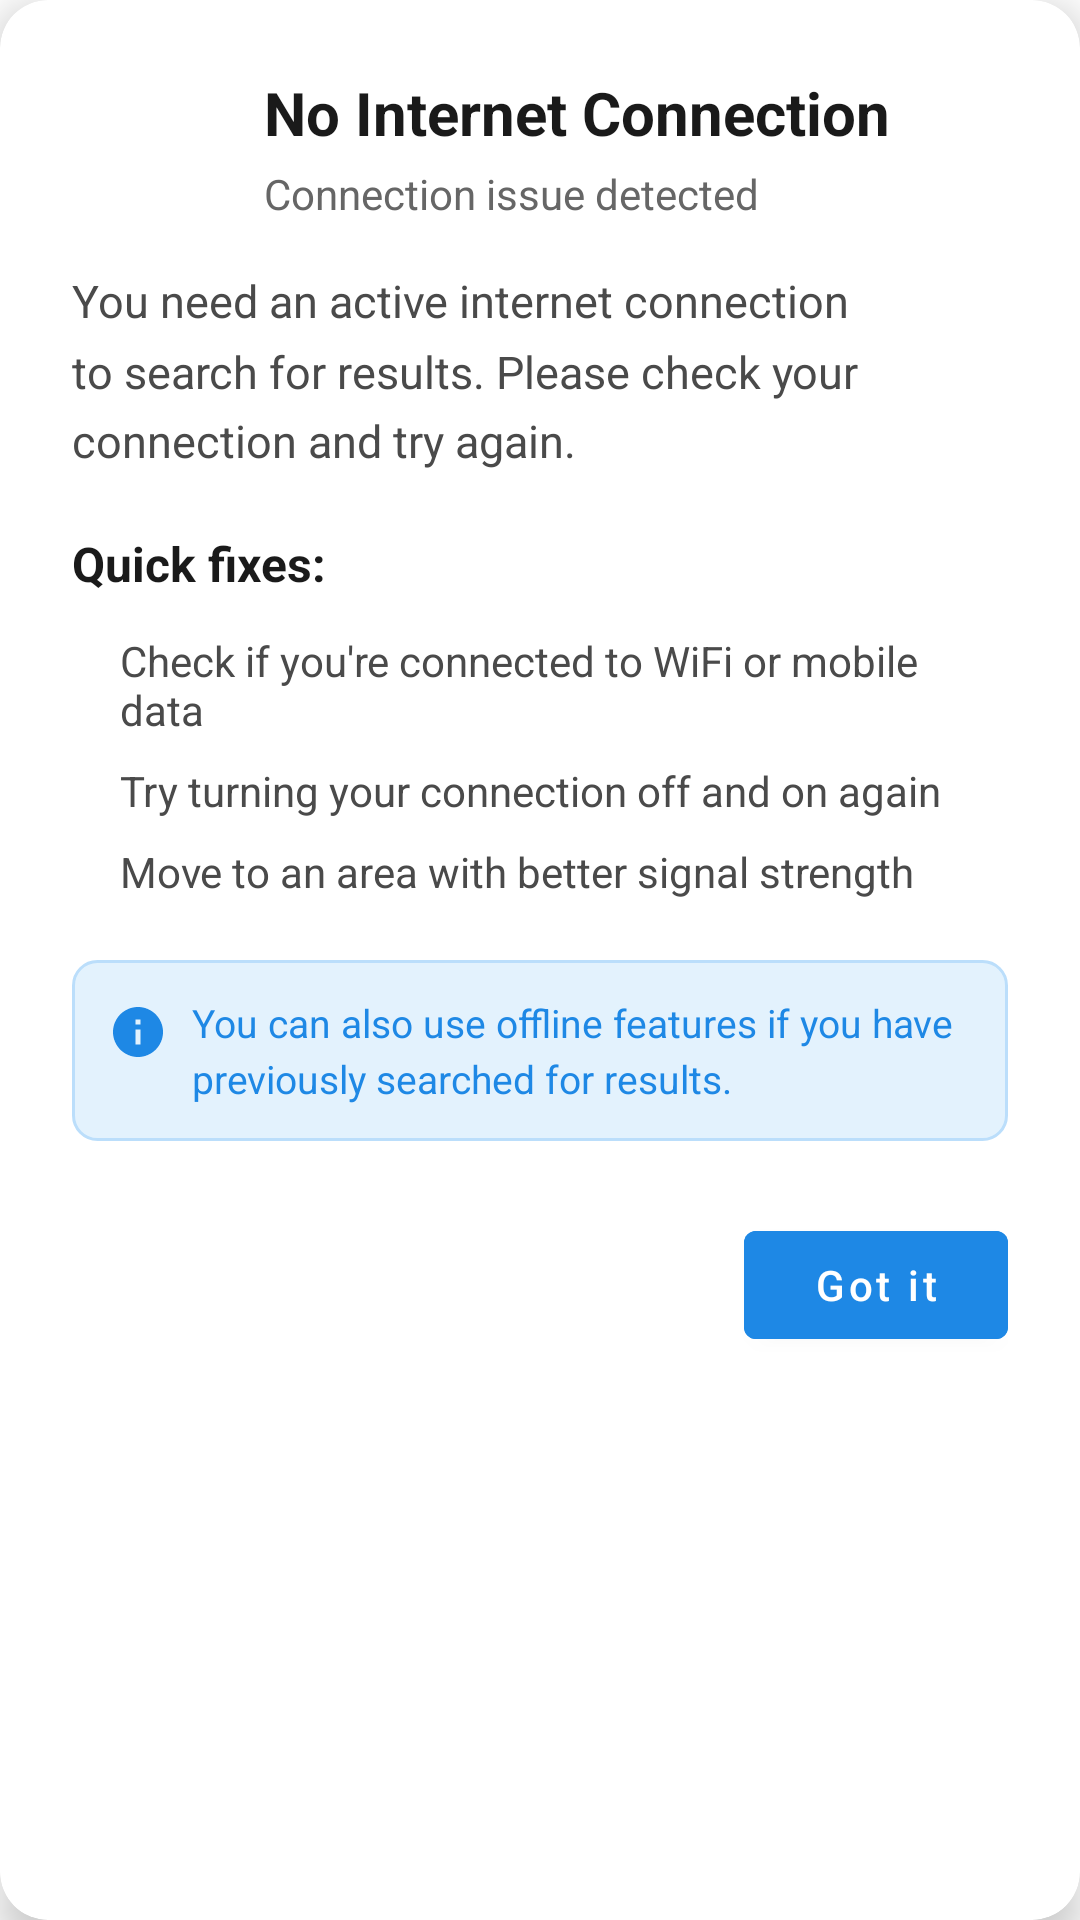

Icons on this 1080px×1920px Android screen, each with its box as (x1, y1, x2, y2):
info: (113, 1007, 163, 1057)
